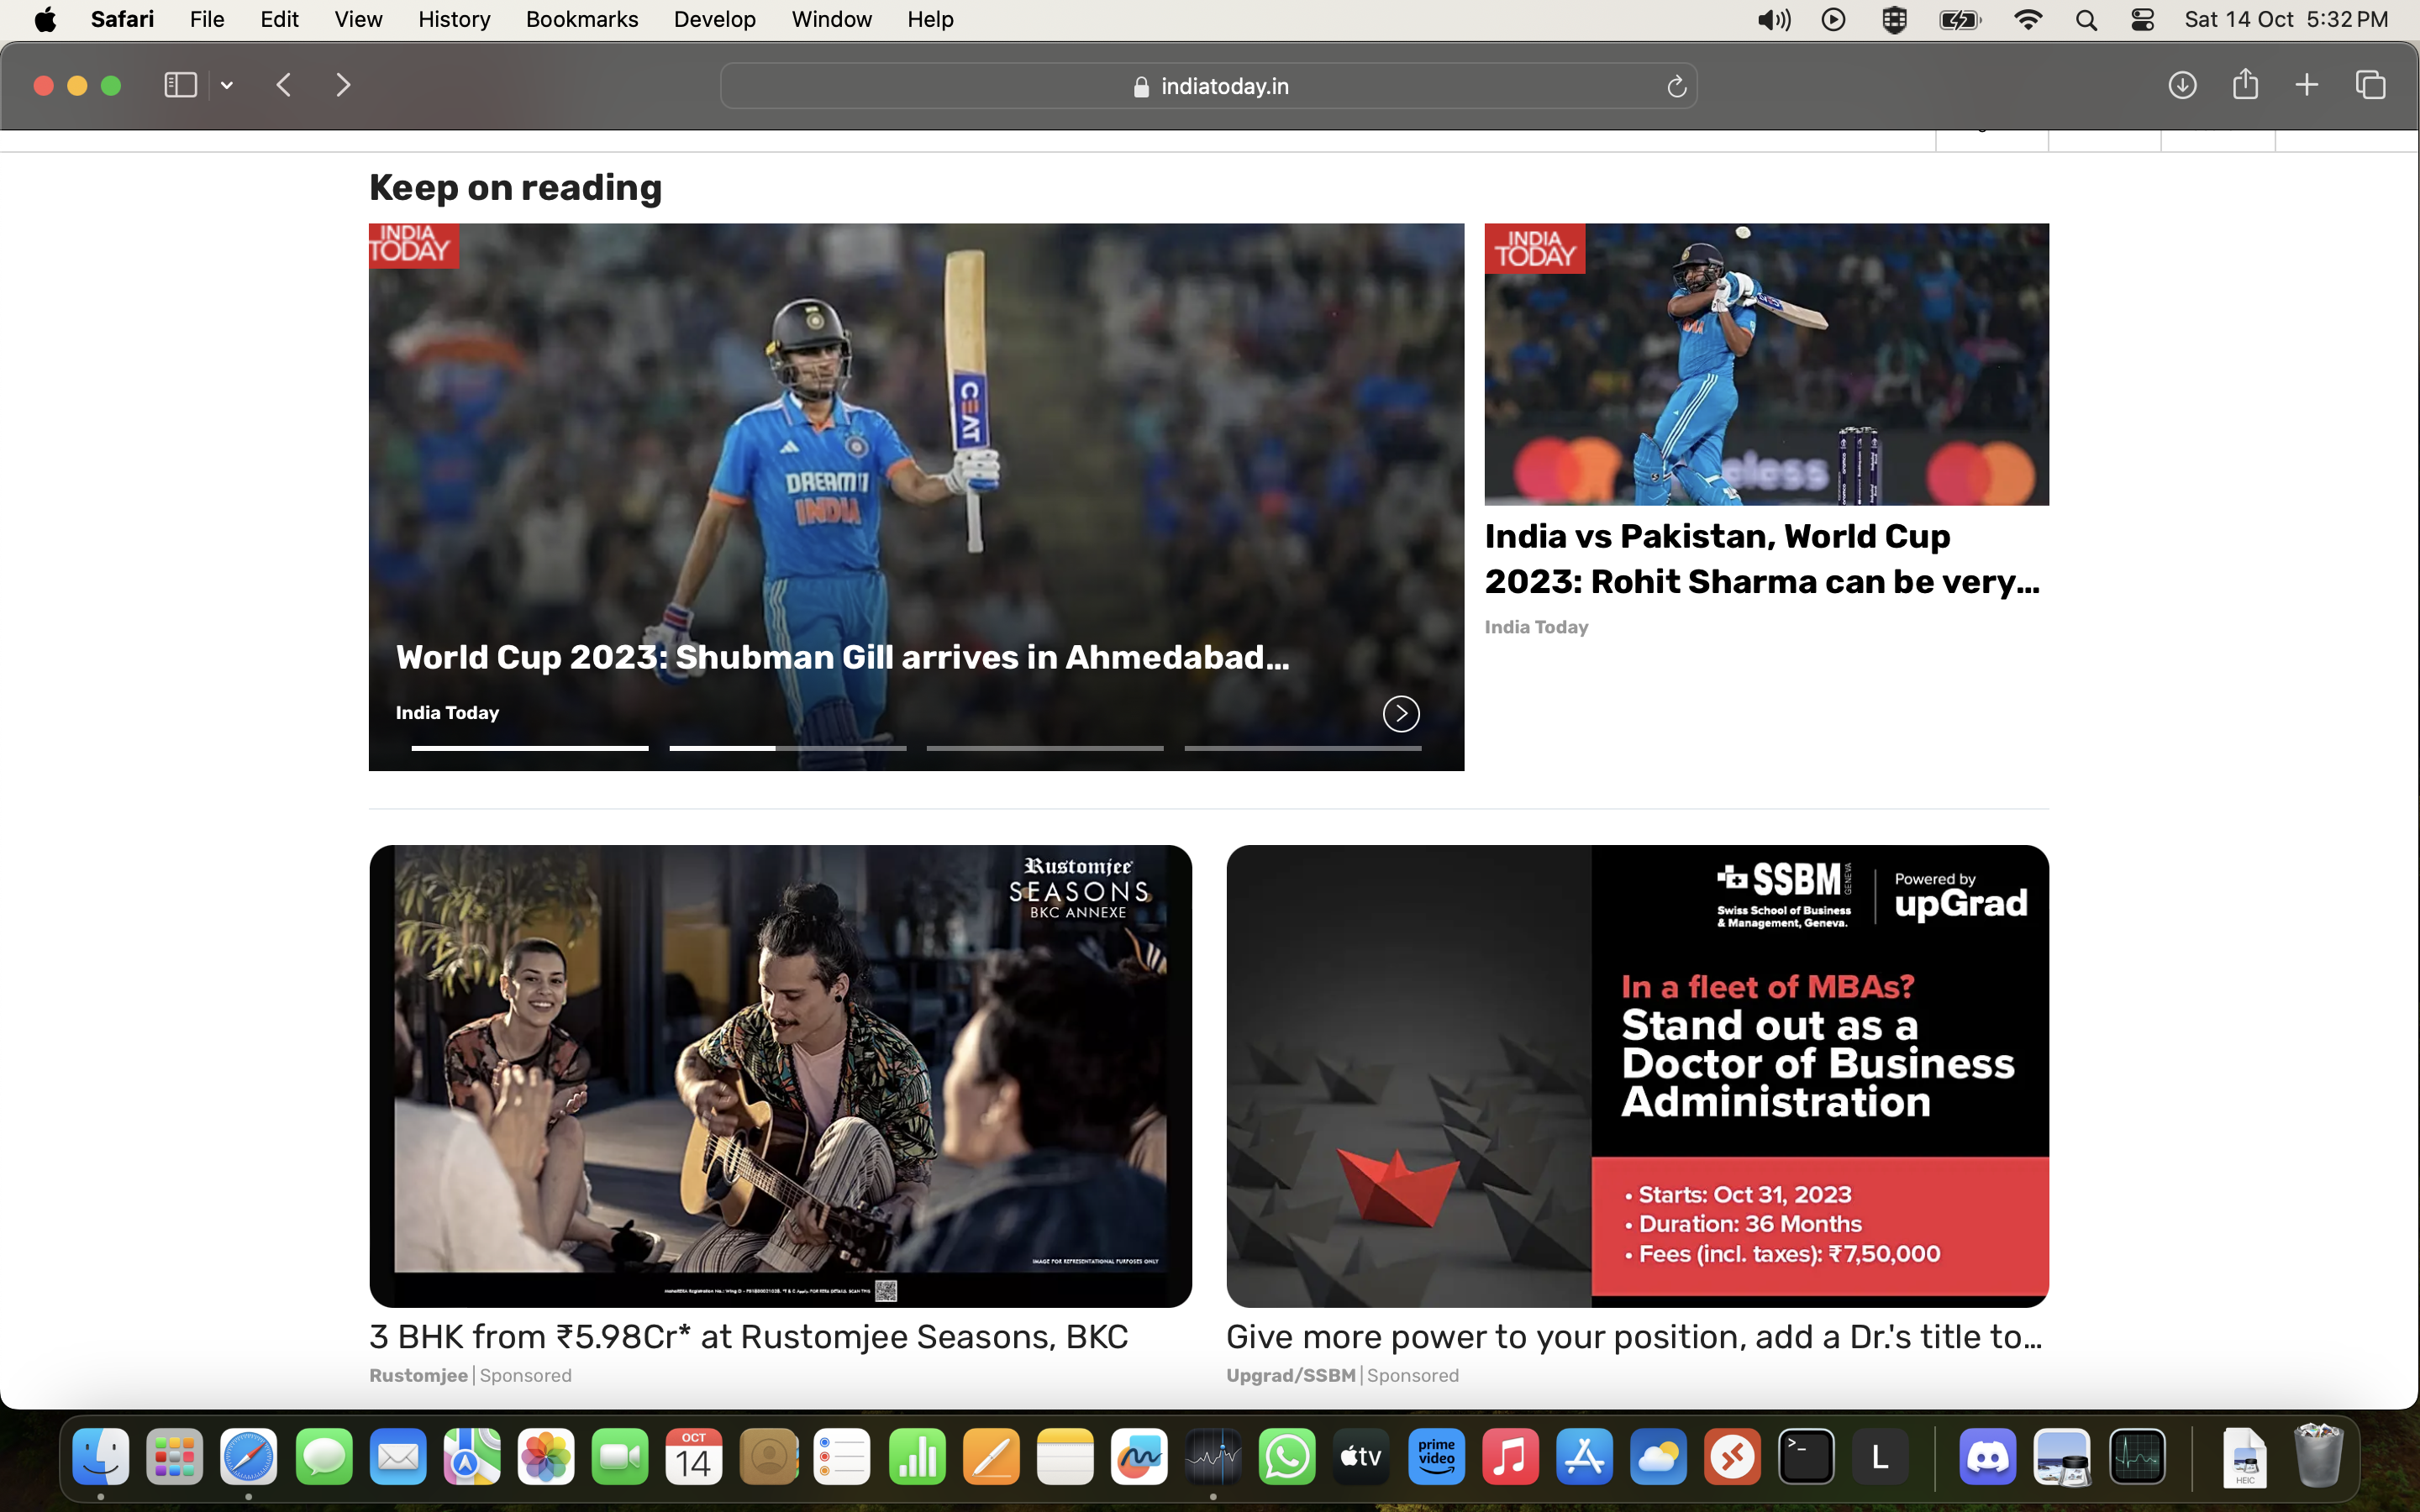Image: (375, 223, 1469, 761), (357, 854, 1193, 1299), (1235, 847, 2044, 1299), (1481, 209, 2051, 500)
Paragraph: (1221, 1310, 2075, 1409), (1484, 514, 2065, 651), (347, 1313, 1180, 1392), (383, 624, 1303, 690), (1605, 1016, 2040, 1137), (1619, 1165, 1965, 1272), (1612, 981, 1927, 1009), (382, 702, 510, 733)
